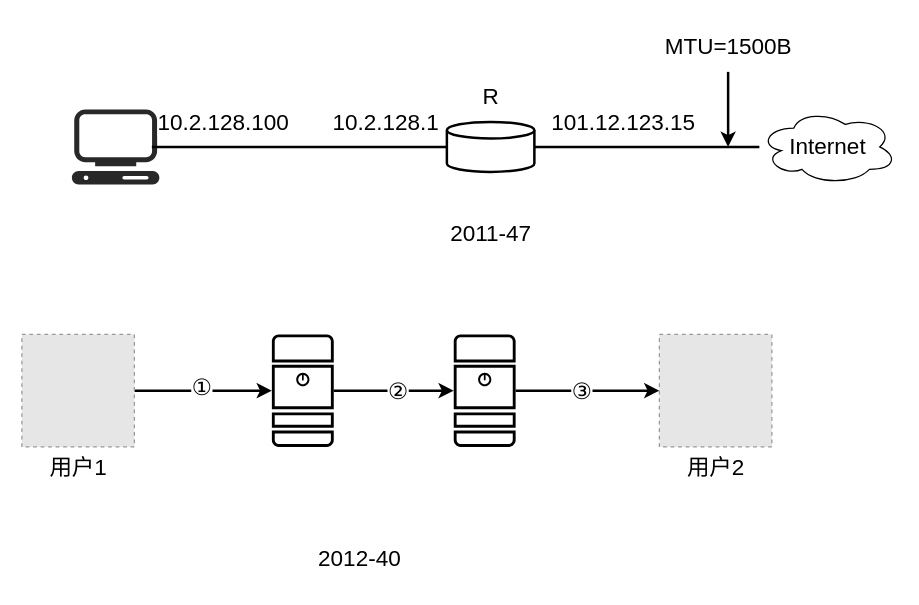
Some shapes in this 919 by 605 pixel diagram are drawn without their labels. Grey dashed boxes stand in for pictures. Here are the shapes that lost their labels. From the top down, the centre of each, then its label:
(302,390): 用户1的 邮件服务器
(484,390): 用户2的 邮件服务器
